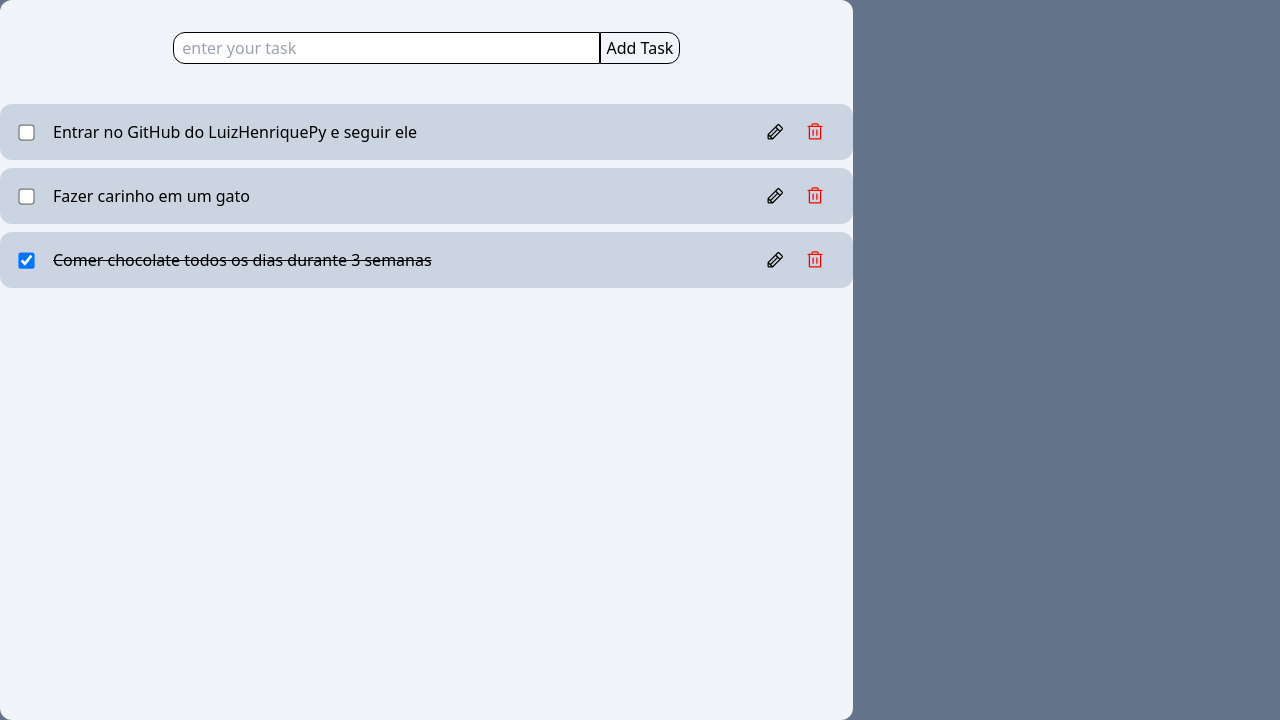
Test case: Page ToDoList › Testa se é possível adicionar uma nova tarefas
Type "texto para testar a tarefa" into the field at (387, 48), box [173, 32, 600, 64]
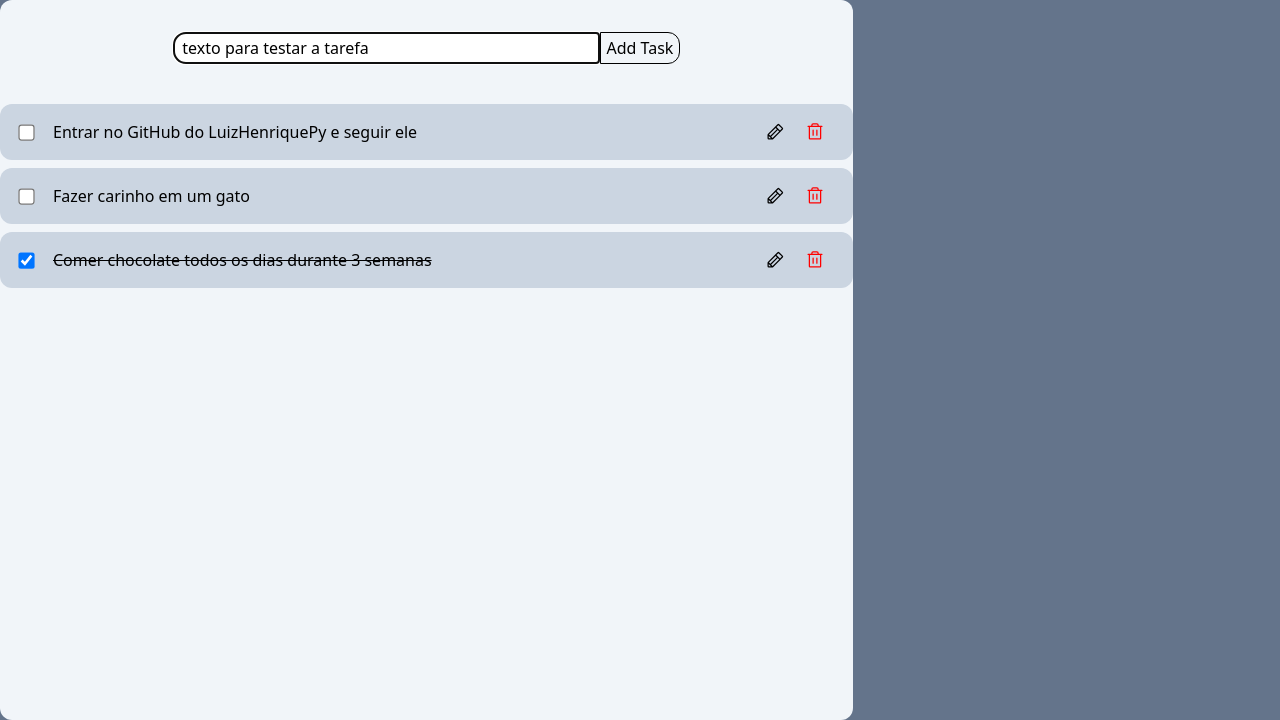
Click the button "Add Task" at (640, 48), box [600, 32, 680, 64]
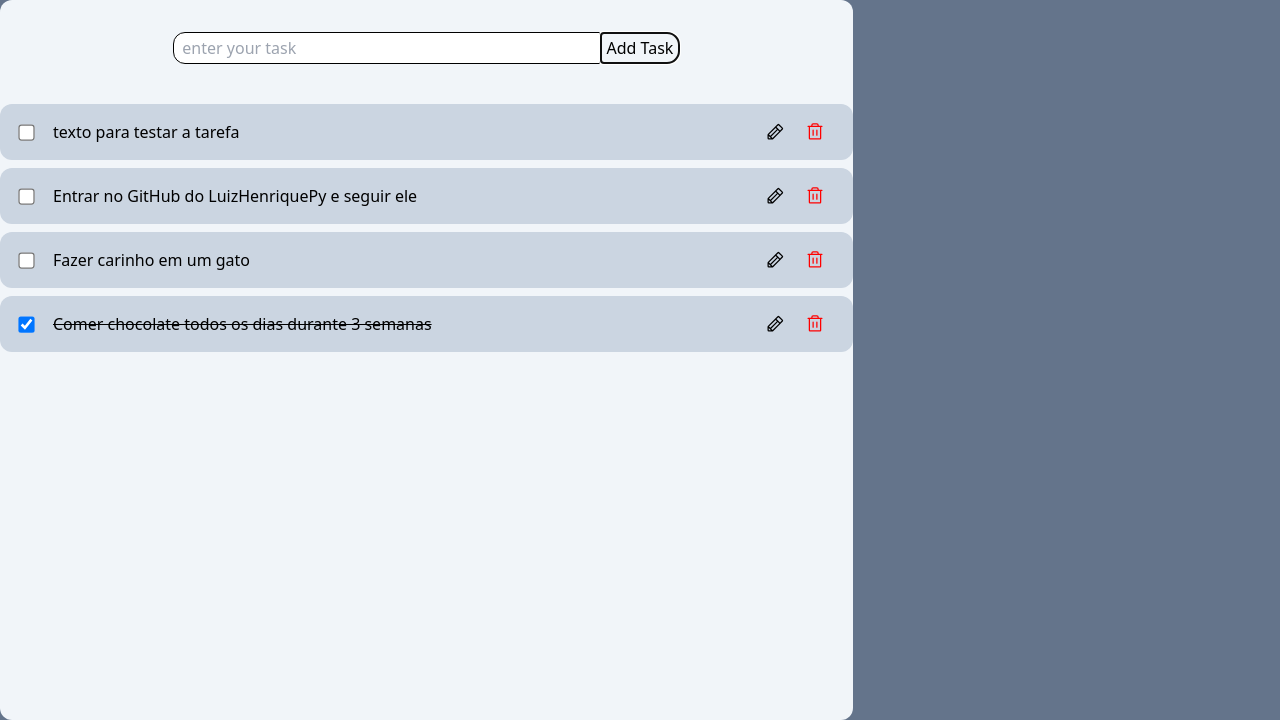
Now the heading "texto para testar a tarefa" is shown, box [53, 121, 240, 143]
